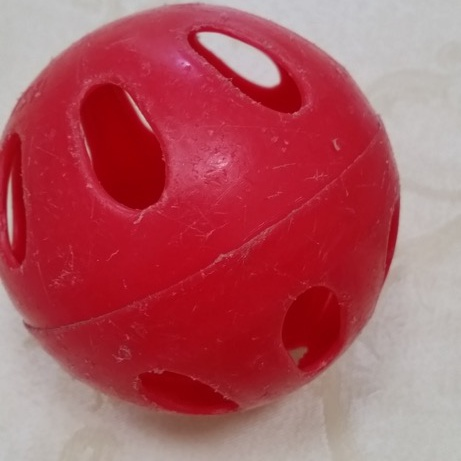redball: (0, 0, 404, 418)
